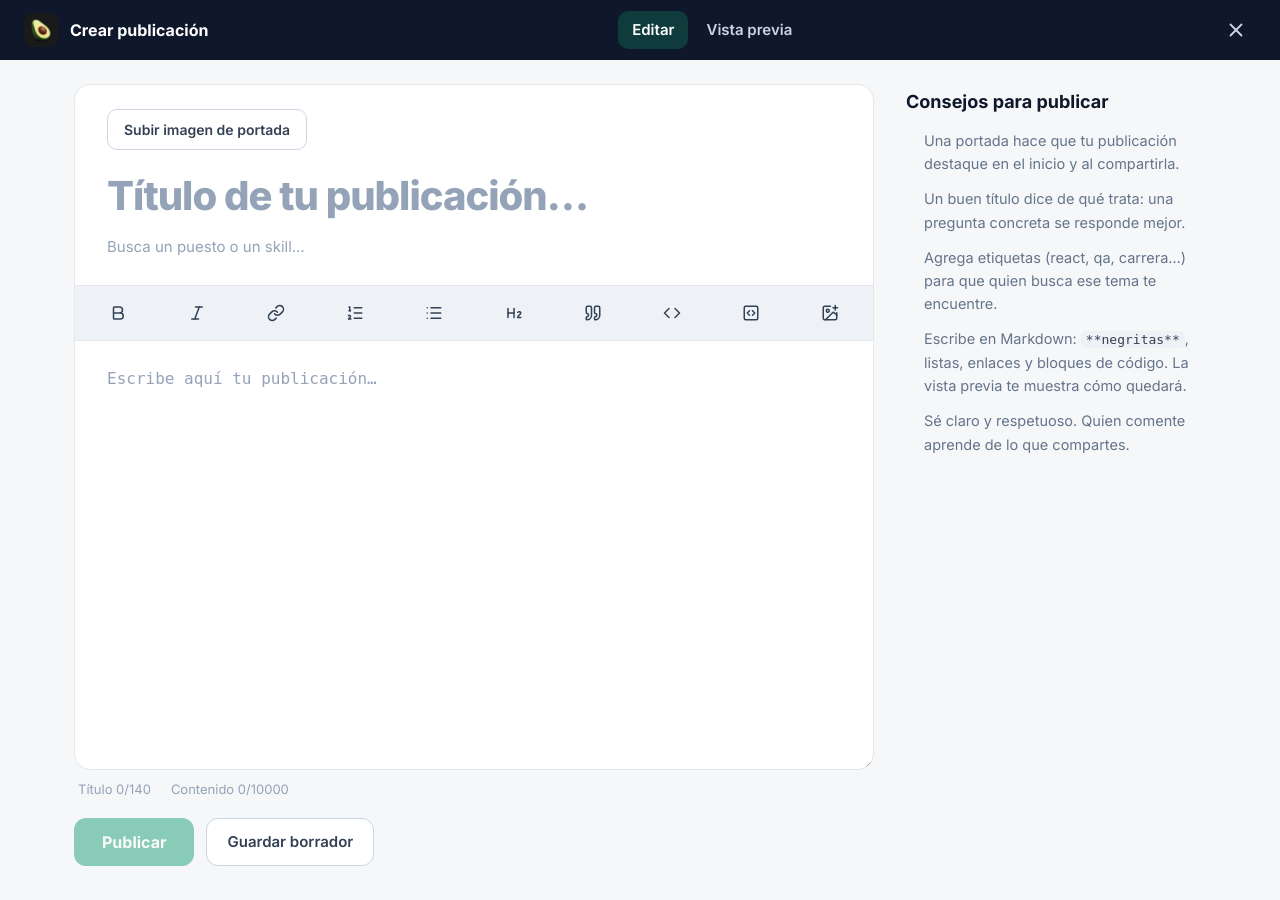
PublishForm › also offers puestos, grouped before the skills
Type "back" into the dropdown named "Etiquetas" at (474, 247), box [107, 230, 841, 264]
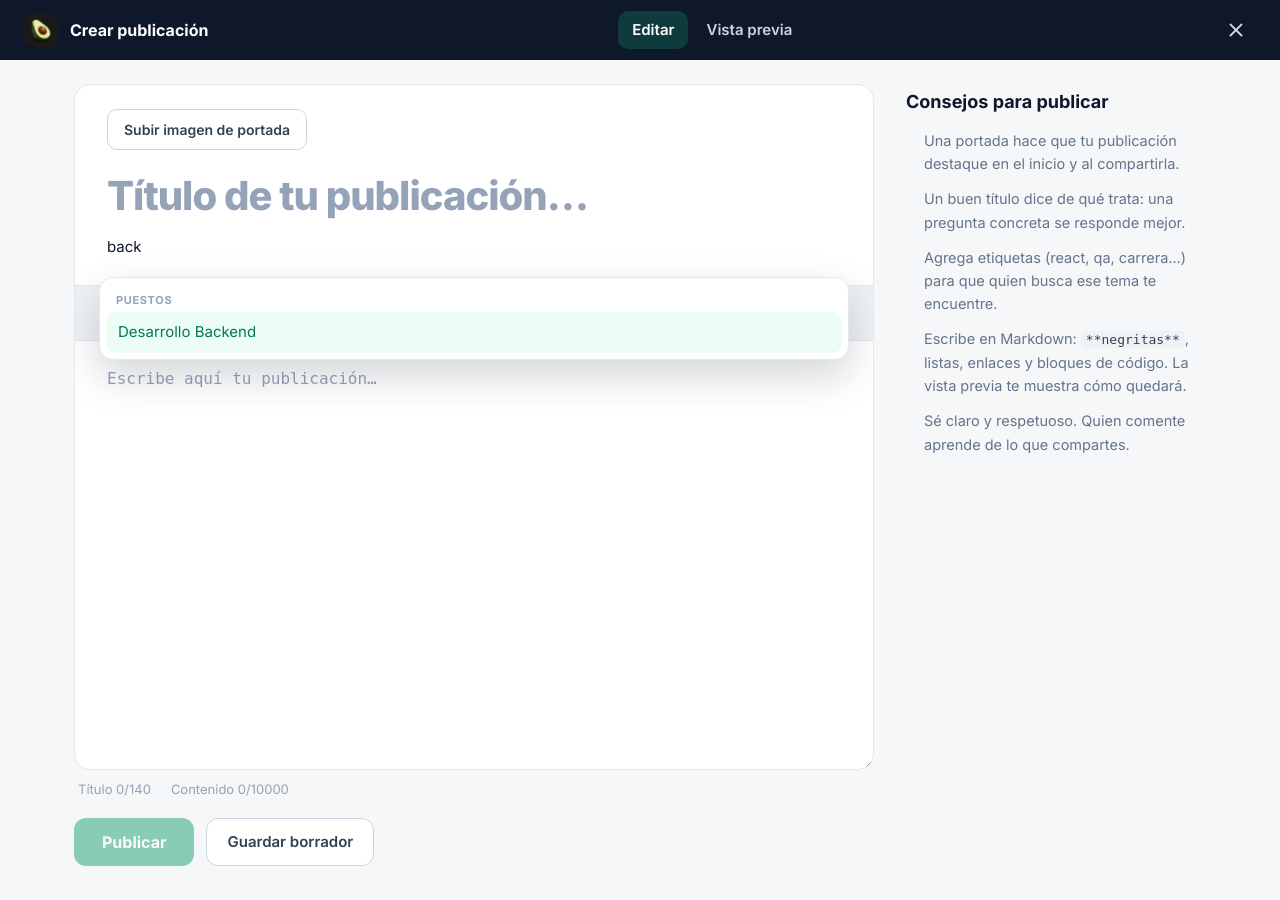
Check: the option "Desarrollo Backend" is shown, box [106, 312, 842, 352]
Check: the text "Puestos" is shown, box [116, 292, 172, 306]
